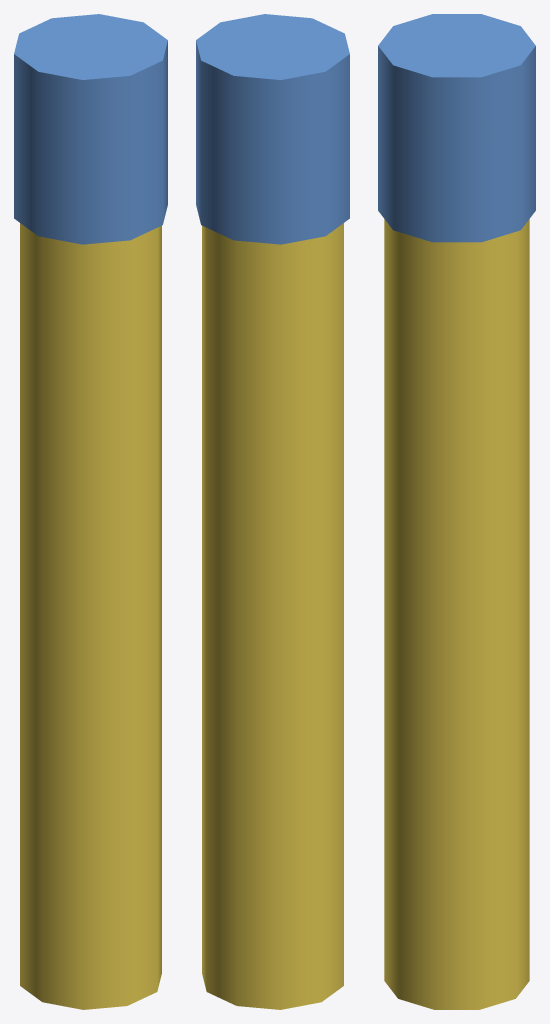
Rendered from epipen.glb.
3 renders of one model, left to right at view 1: azimuth 30°, elevation 25°; view 2: azimuth 150°, elevation 25°; view 3: azimuth 270°, elevation 25°, orthographic.
Visible parts, largest first — view 1: EpiPen; view 2: EpiPen; view 3: EpiPen.
Boxes of the visible parts, x1,y1,x2,y2 form: EpiPen: (14,14,167,1009); EpiPen: (196,14,349,1009); EpiPen: (378,14,535,1009).
Size of the model in its own units: 0.0247 by 0.17 by 0.026.
